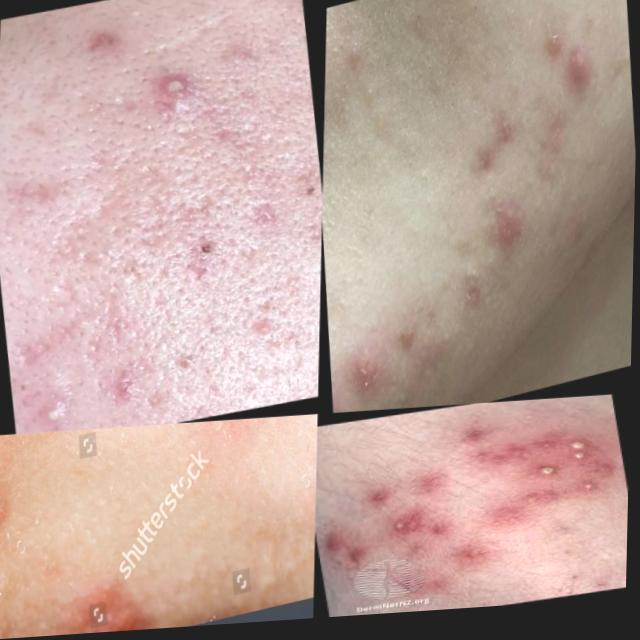8: (316, 517, 382, 578), (81, 588, 161, 635), (346, 346, 385, 408), (491, 205, 530, 265), (458, 418, 508, 459), (570, 45, 599, 106), (400, 471, 449, 506), (539, 26, 570, 69), (466, 545, 503, 575), (522, 495, 566, 512)
9: (153, 56, 216, 117), (35, 381, 96, 433), (390, 520, 414, 542)
blackheads: (65, 3, 142, 79), (470, 108, 530, 193)
whiteheads: (537, 465, 568, 490), (578, 483, 605, 504), (570, 440, 594, 459), (570, 454, 595, 469)
